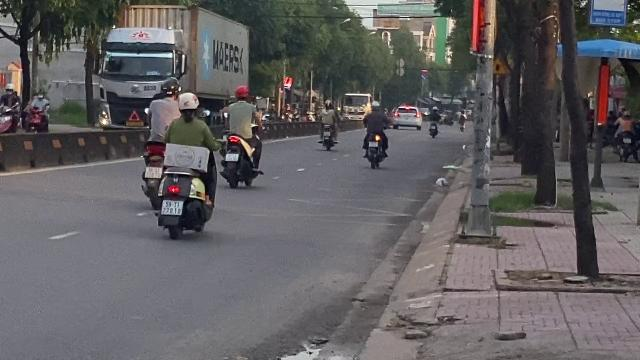helmet: (177, 92, 199, 118), (158, 76, 180, 98)
licenseplate: (160, 199, 182, 214), (145, 166, 161, 178)
motorcyclist: (154, 86, 218, 240), (140, 76, 182, 214)
